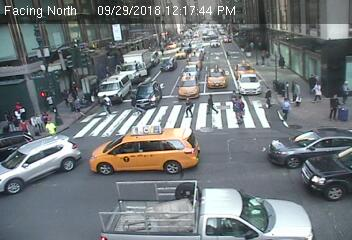car: (101, 177, 314, 240), (88, 124, 201, 176), (2, 136, 80, 195), (268, 123, 352, 166), (303, 147, 352, 200), (116, 49, 150, 83), (99, 73, 132, 105), (1, 129, 34, 159), (131, 79, 162, 110), (177, 74, 201, 100), (237, 73, 262, 94), (206, 66, 228, 89), (179, 62, 199, 79), (233, 61, 255, 75), (187, 52, 203, 71), (158, 56, 176, 70), (207, 38, 222, 50), (173, 48, 188, 60), (147, 50, 158, 66), (178, 40, 192, 51), (165, 39, 176, 49), (224, 34, 234, 43)
